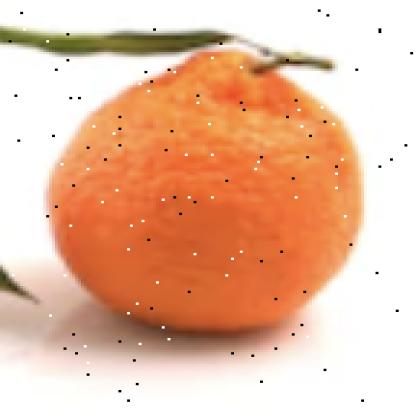fresh: (46, 45, 368, 335)
